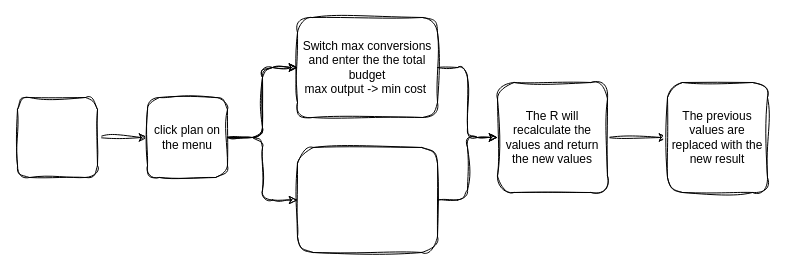
Some shapes in this 785 by 270 pixel diagram are drawn without their labels. Here are the shapes that lost their labels. From the top down, the centre of each, then its label:
the point at 57,137: A user login
the point at 367,199: Switch to the minimum cost and enter the desired output min cost -> max output
